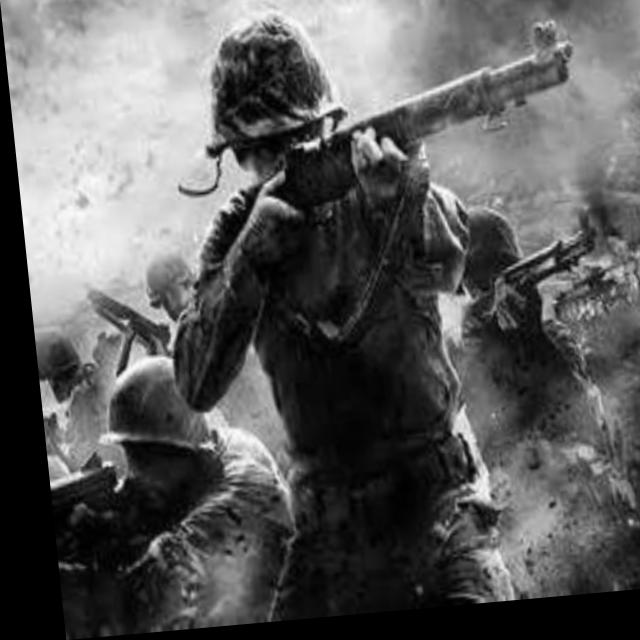other: (201, 7, 482, 619), (66, 388, 283, 633), (444, 208, 579, 467), (27, 329, 106, 460), (133, 251, 192, 328)
